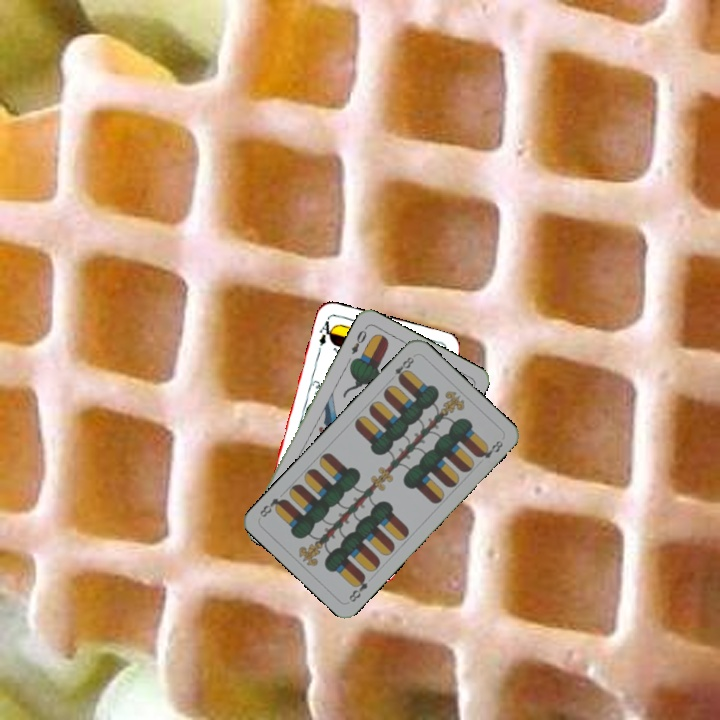E8: (345, 571, 371, 605), (390, 352, 417, 384)
EA: (315, 314, 337, 349)
EO: (347, 326, 369, 357)
